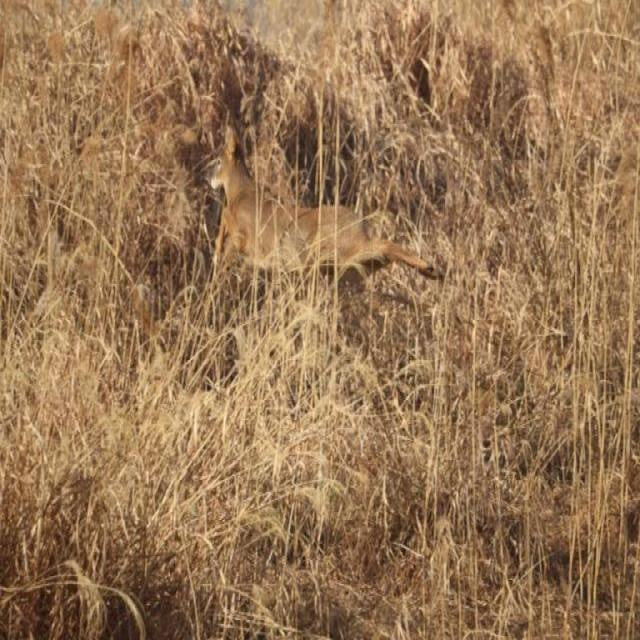deer: (193, 126, 453, 294)
